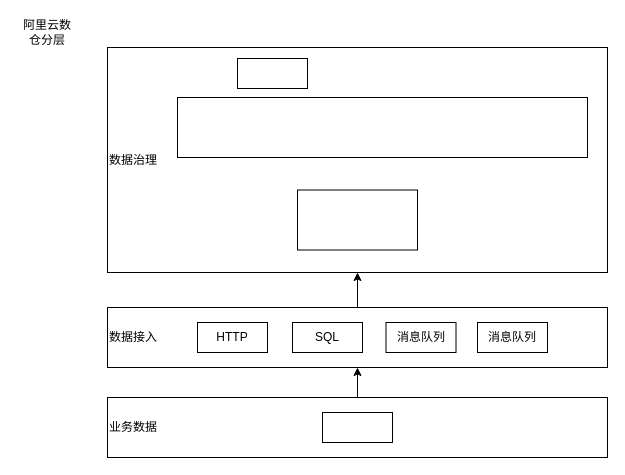
Image size: 625x475. Some labels were removed from this diagram. The shapes that lost their labels are listed below. From the top down, each one's centre as x and y in pixels, then its label:
At (x=382, y=127): "CDM（公共数据层）".
At (x=357, y=219): "ODS（原始数据层）".
At (x=357, y=427): "业务系统".
